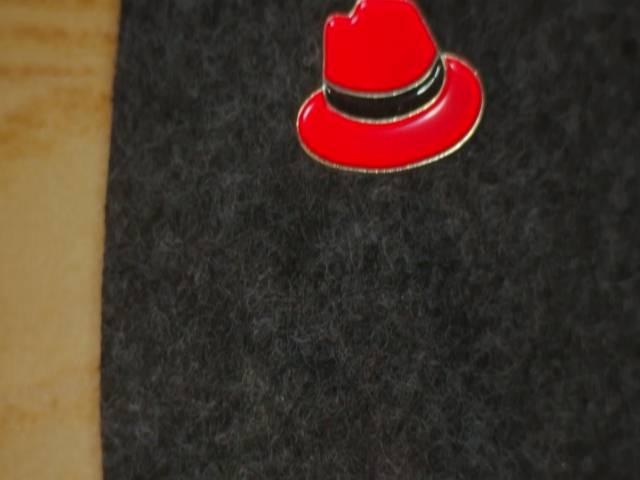Red-Hat: (280, 0, 498, 191)
